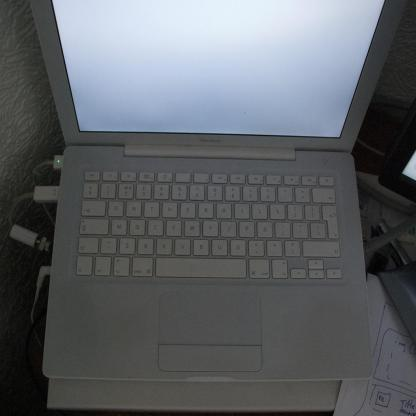board: (23, 0, 406, 377)
